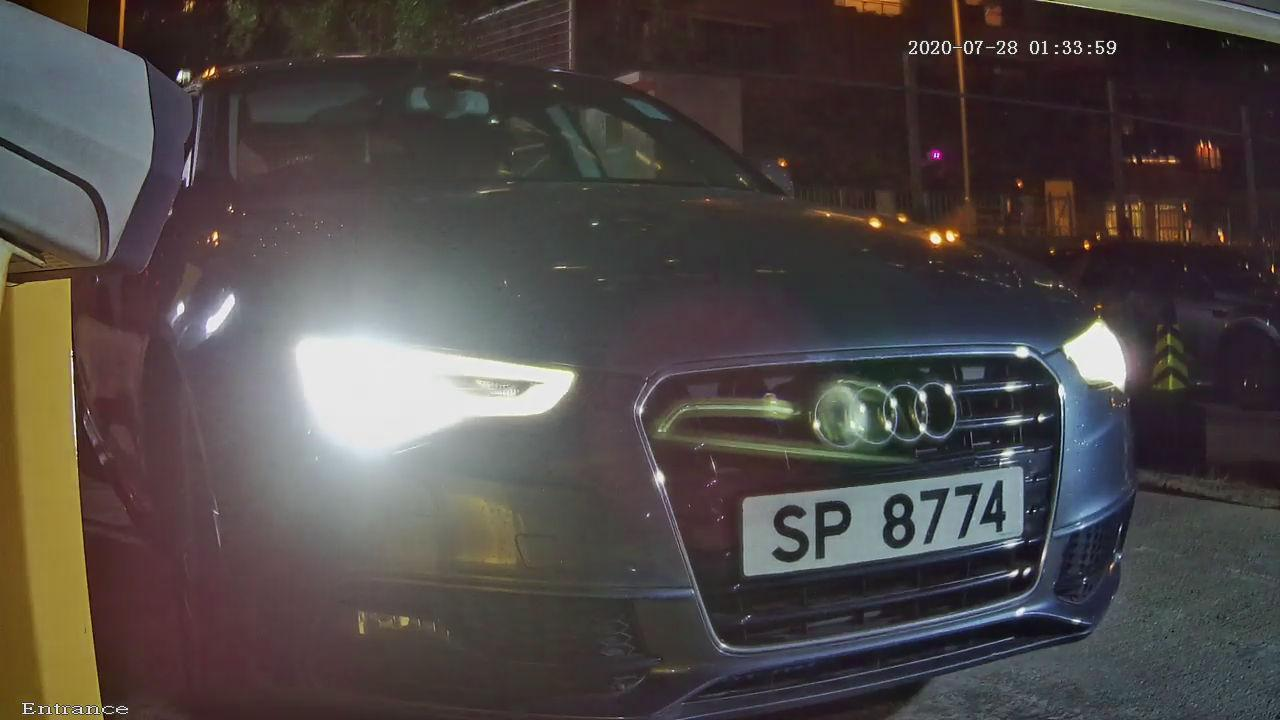privatecar: (121, 1, 1158, 681)
